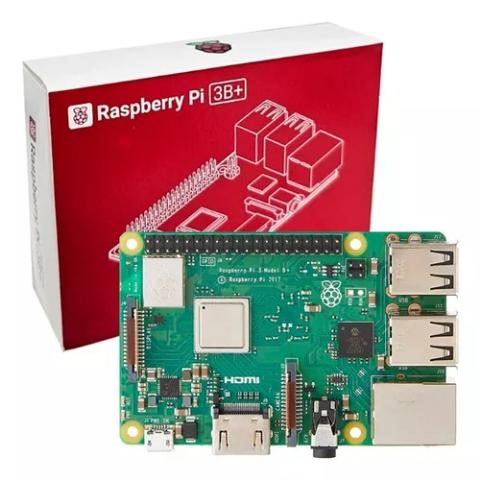Raspberry-Pi-3-Model-B-: (114, 226, 464, 463)
